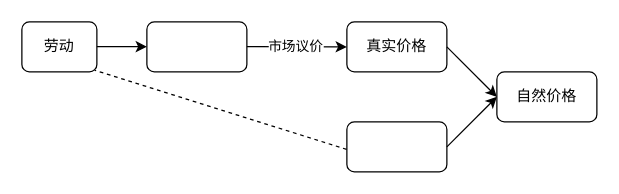
The diagram is 619 pixels wide and 194 high, and some of its shapes have lost their labels. The box of each missing label's shape, as (x1, y1, x2, y2) in pixels:
使用价值: (146, 21, 247, 72)
资本、土地: (346, 121, 447, 172)
